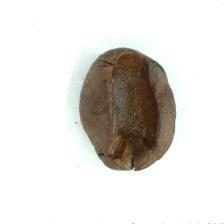NG: (107, 50, 165, 170)
